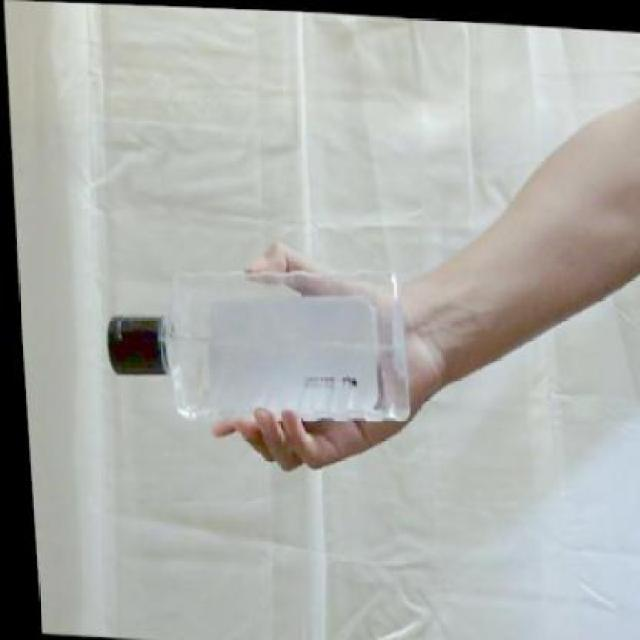Plastic: (105, 265, 420, 431)
